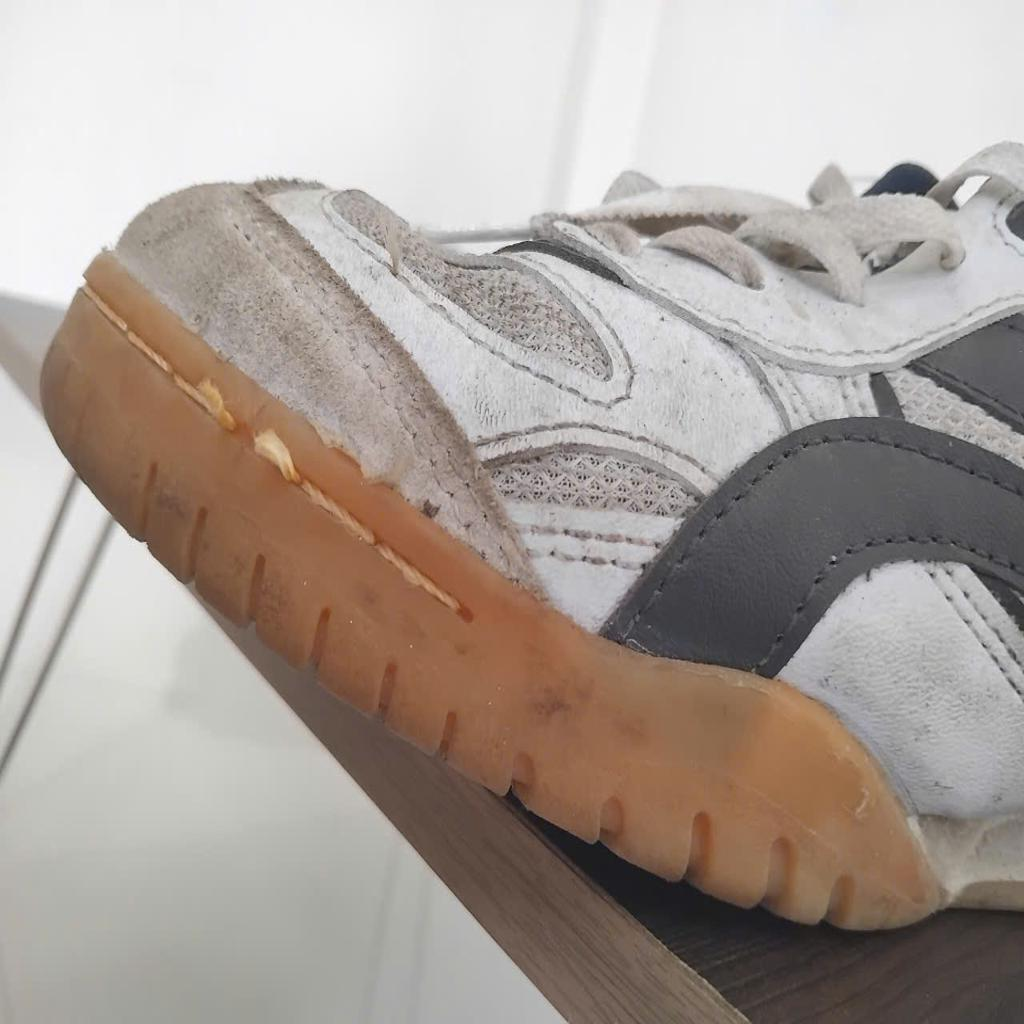broken: (186, 374, 299, 484)
